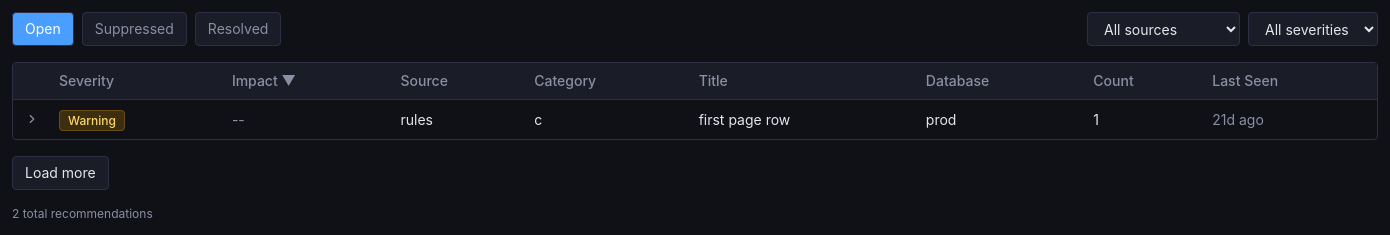
Test: Findings paging › loads the next page with next_cursor and appends it
Click the button with test id "findings-load-more" at {"x": 60, "y": 173}, box [12,156,109,190]
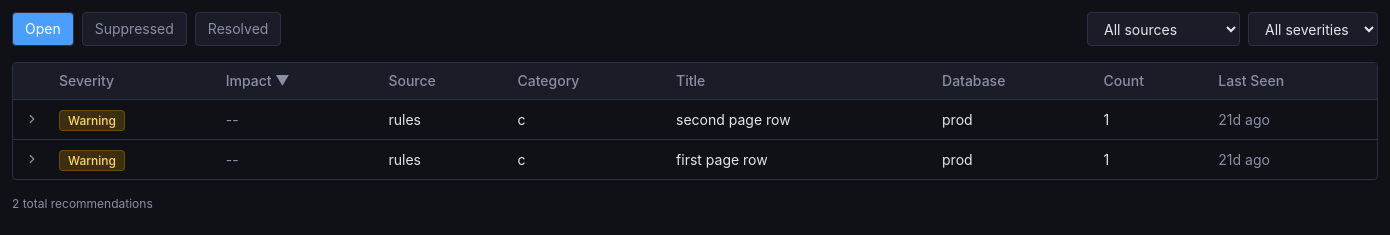
Expected: the text "first page row" is shown, [668,140,934,179]
Result: the text "second page row" is shown at [668,100,934,140]
Result: the button with test id "findings-load-more" is gone
